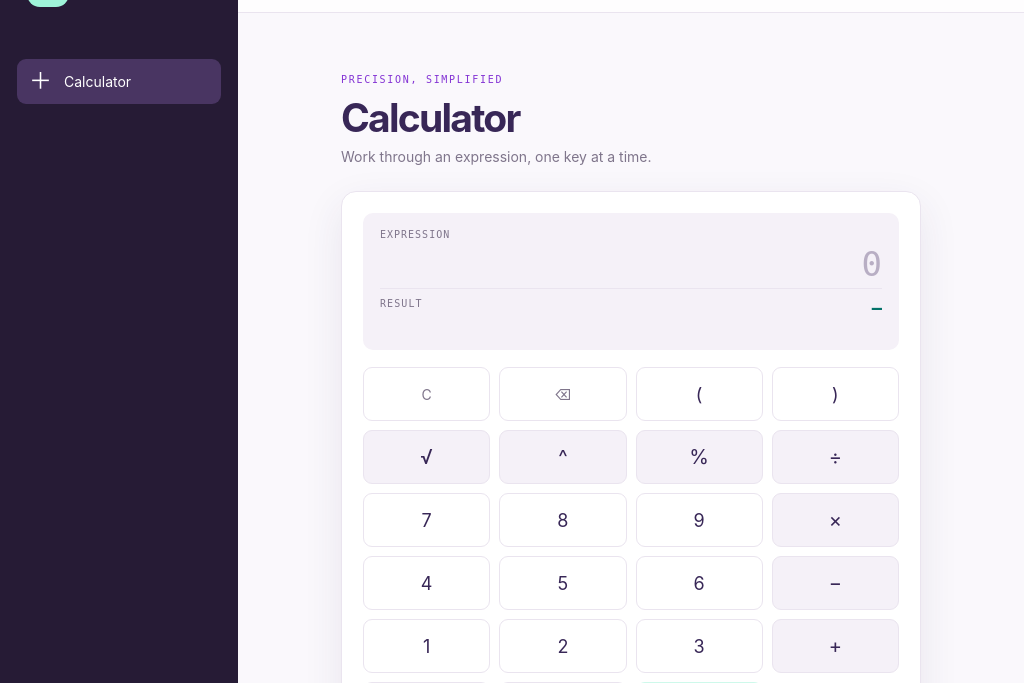
Test: calculator › prevents duplicate submissions while calculation is pending
This screenshot has width=1024, height=683.
Click the button "1" at point(427, 646), box [363,619,490,673]
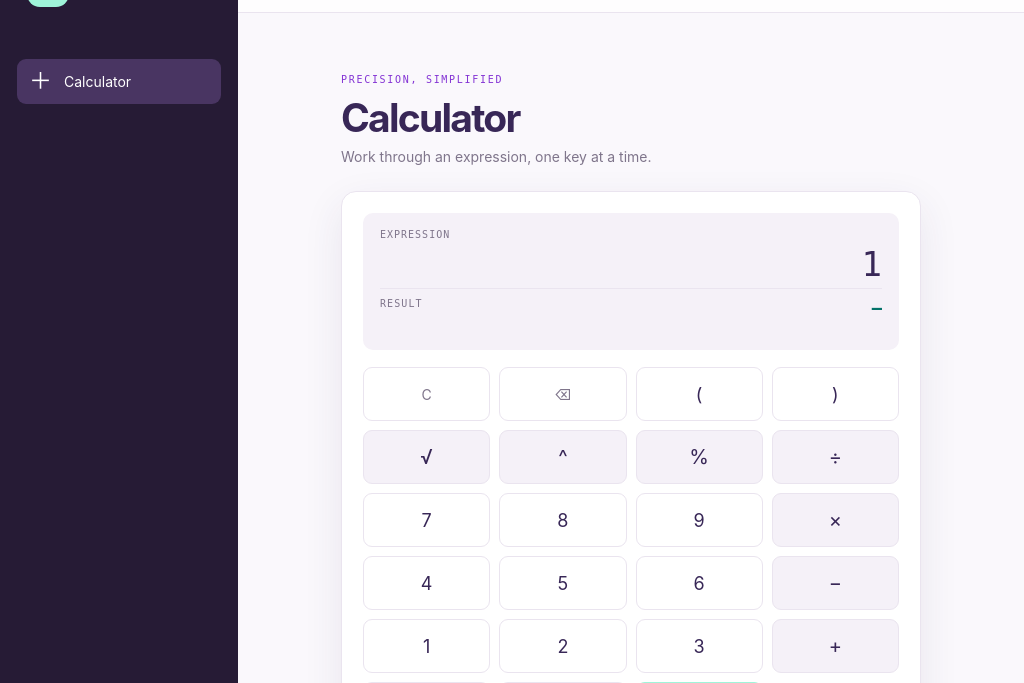
Click the button "+" at point(835, 646), box [772,619,899,673]
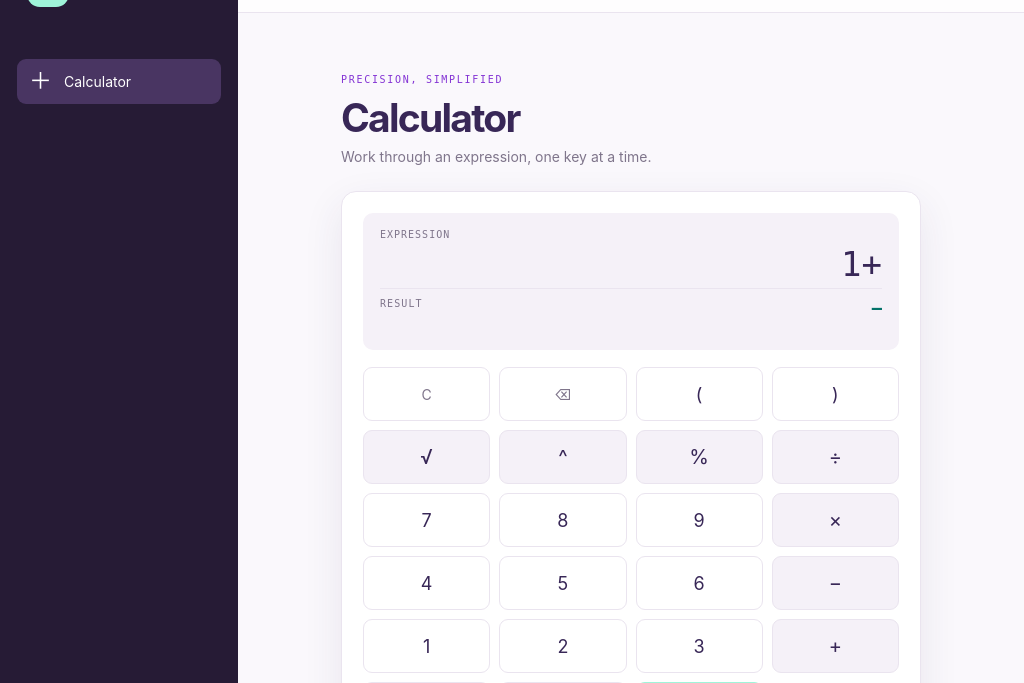
Click the button "1" at point(427, 646), box [363,619,490,673]
(page scrolled)
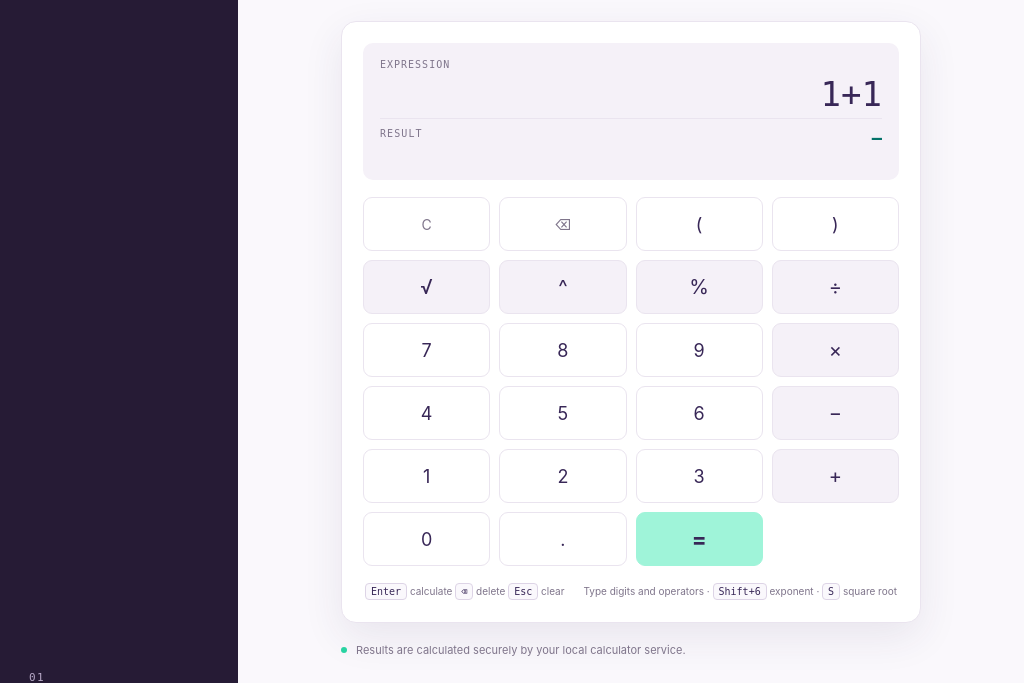
Click the button "=" at point(699, 539), box [636,512,763,566]
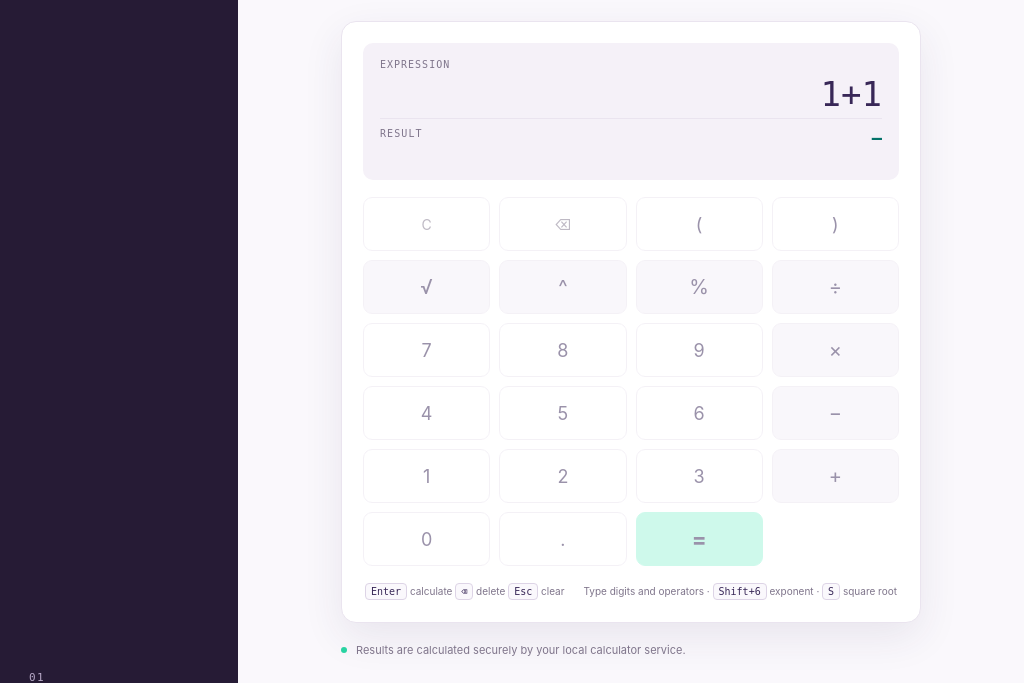
Check: the button "=" is disabled, box [636,512,763,566]
Press 9
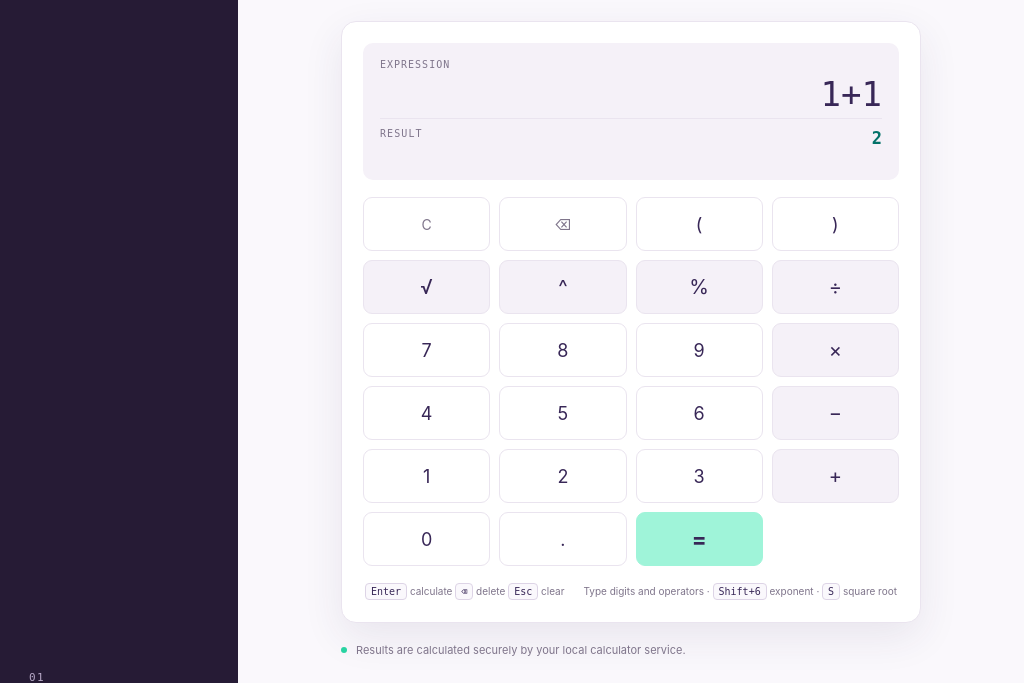
Check: the field labelled "Expression" holds "1+1", box [380,70,882,118]
Check: the button "=" is enabled, box [636,512,763,566]
